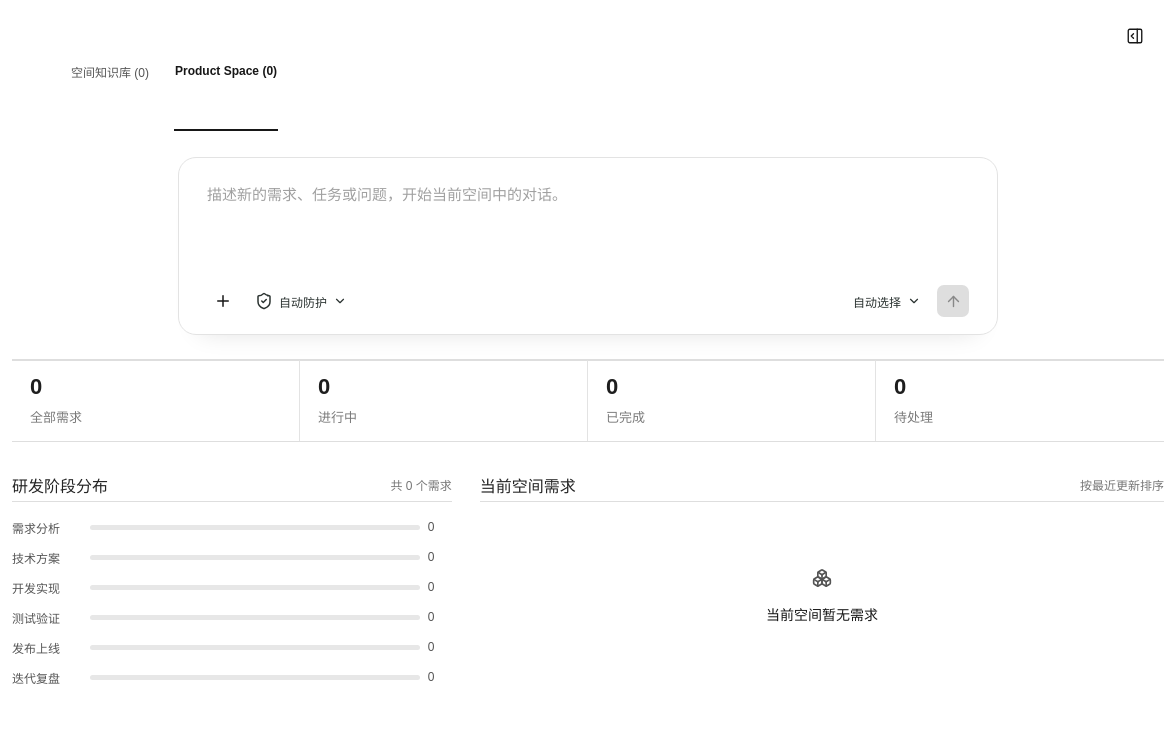
Test case: SpaceDetailPage › keeps the prompt and shows the command error when space creation fails
Type "Retry with workspace" into the text box named "空间对话内容" at x=588, y=232, box top-left (207, 183), bottom-right (969, 281)
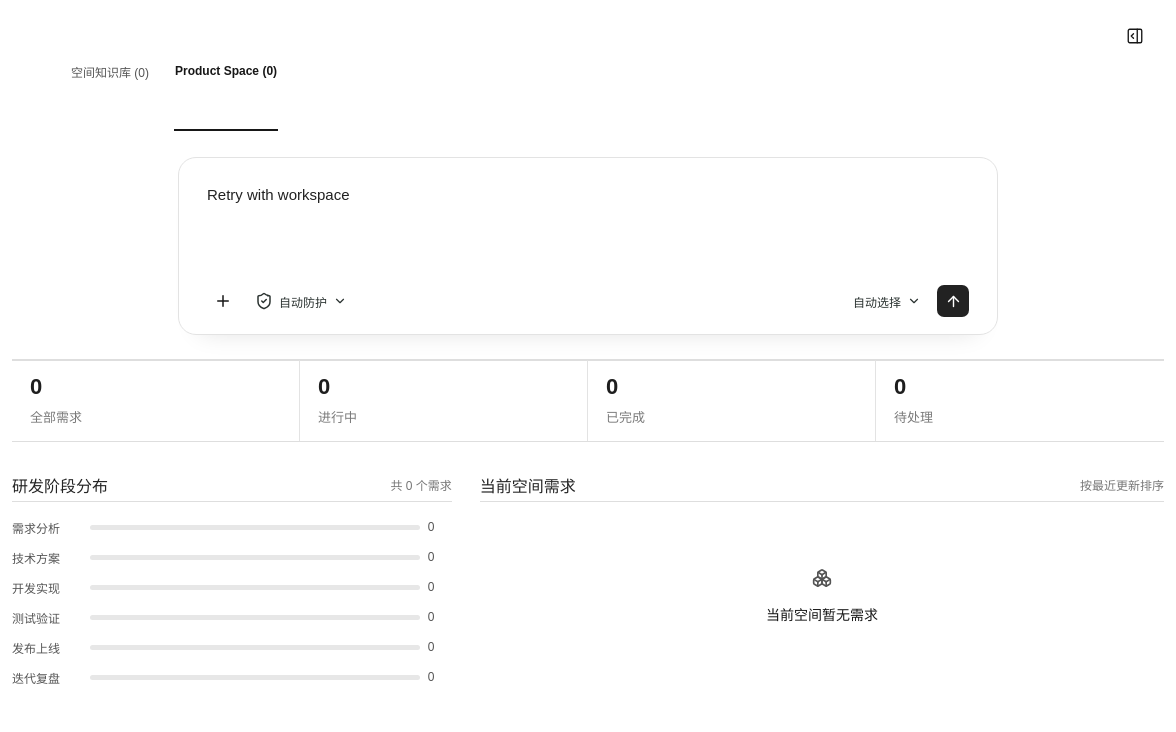
Click the button named "发送空间消息" at x=953, y=301, box top-left (937, 285), bottom-right (969, 317)
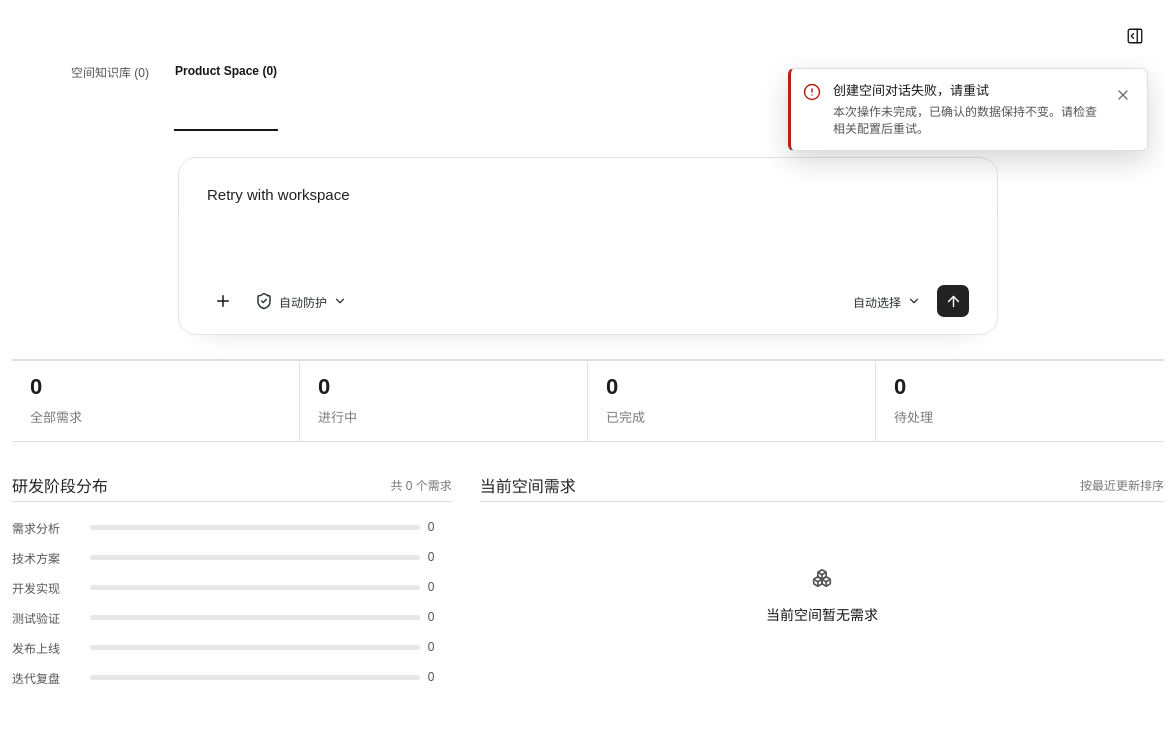
Expected: the message does not show "Workspace not found: space-1", top-left (788, 68), bottom-right (1148, 151)
Expected: the message shows "创建空间对话失败，请重试", top-left (833, 83), bottom-right (989, 98)
